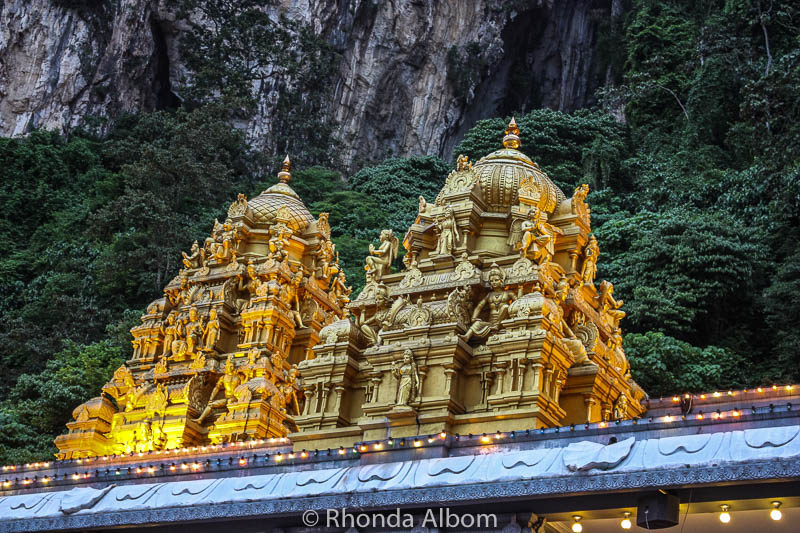Hindu Temple: (95, 146, 634, 430)
